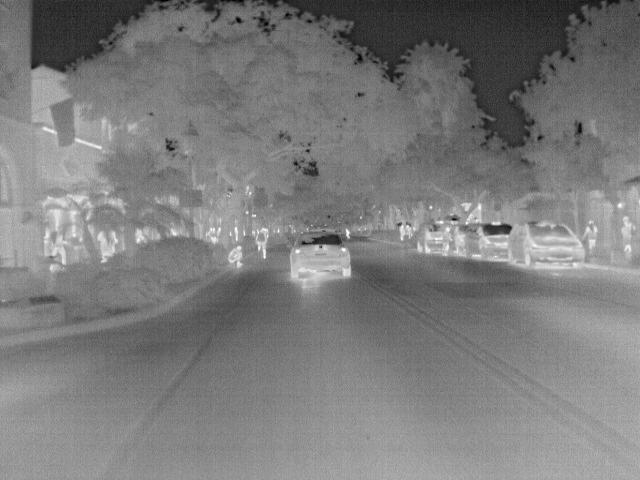car: (508, 220, 587, 269), (288, 230, 354, 280), (466, 221, 512, 262), (413, 221, 452, 253), (450, 223, 468, 257)
person: (622, 214, 638, 260), (580, 219, 597, 259), (255, 224, 272, 259), (441, 224, 453, 259), (227, 244, 243, 269)
